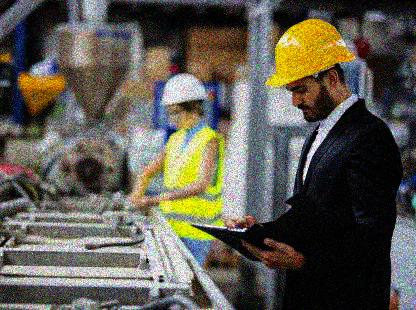helmet: (266, 19, 357, 122), (160, 72, 209, 130)
